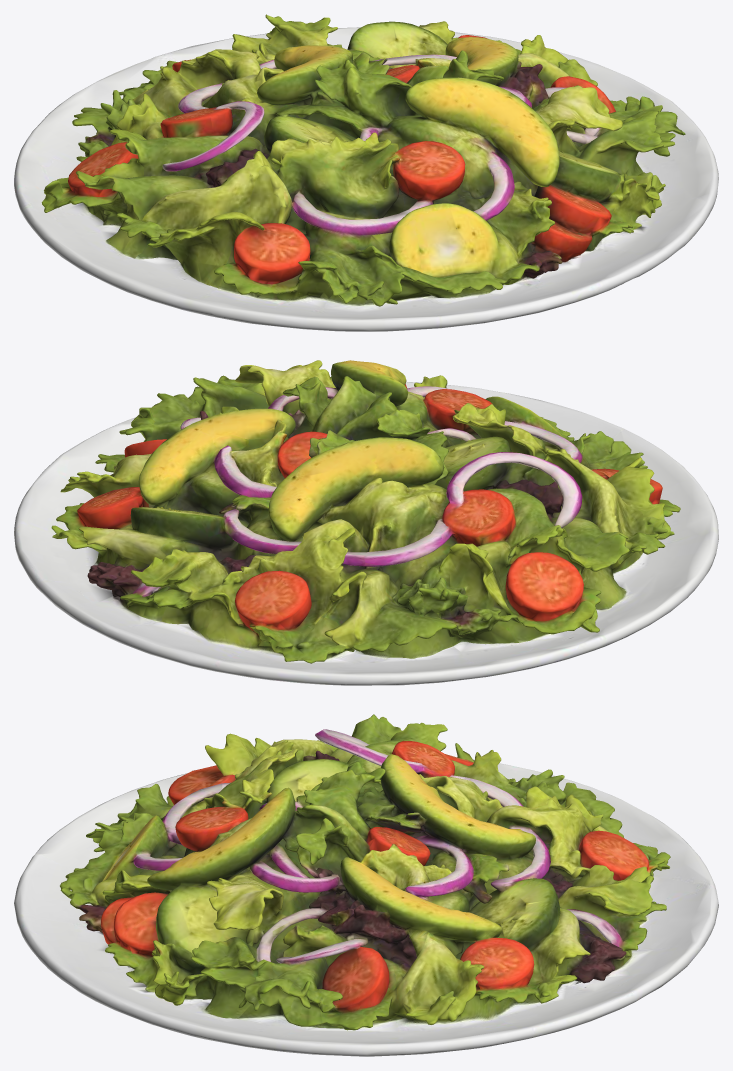
File: ensalada_0.glb
3 views of the same model, one above another, from view 1: azimuth 30°, elevation 25°; view 2: azimuth 150°, elevation 25°; view 3: azimuth 270°, elevation 25° (orthographic).
Visible parts, largest first — view 1: comida; view 2: comida; view 3: comida.
Boxes of the visible parts, box(x1,y1,x2,y2) form: comida: box(14, 14, 718, 331); comida: box(14, 360, 718, 685); comida: box(14, 714, 718, 1056).
Bounding box in the file's own units: 0.27 × 0.0609 × 0.27.
1 material, 1 textured.
